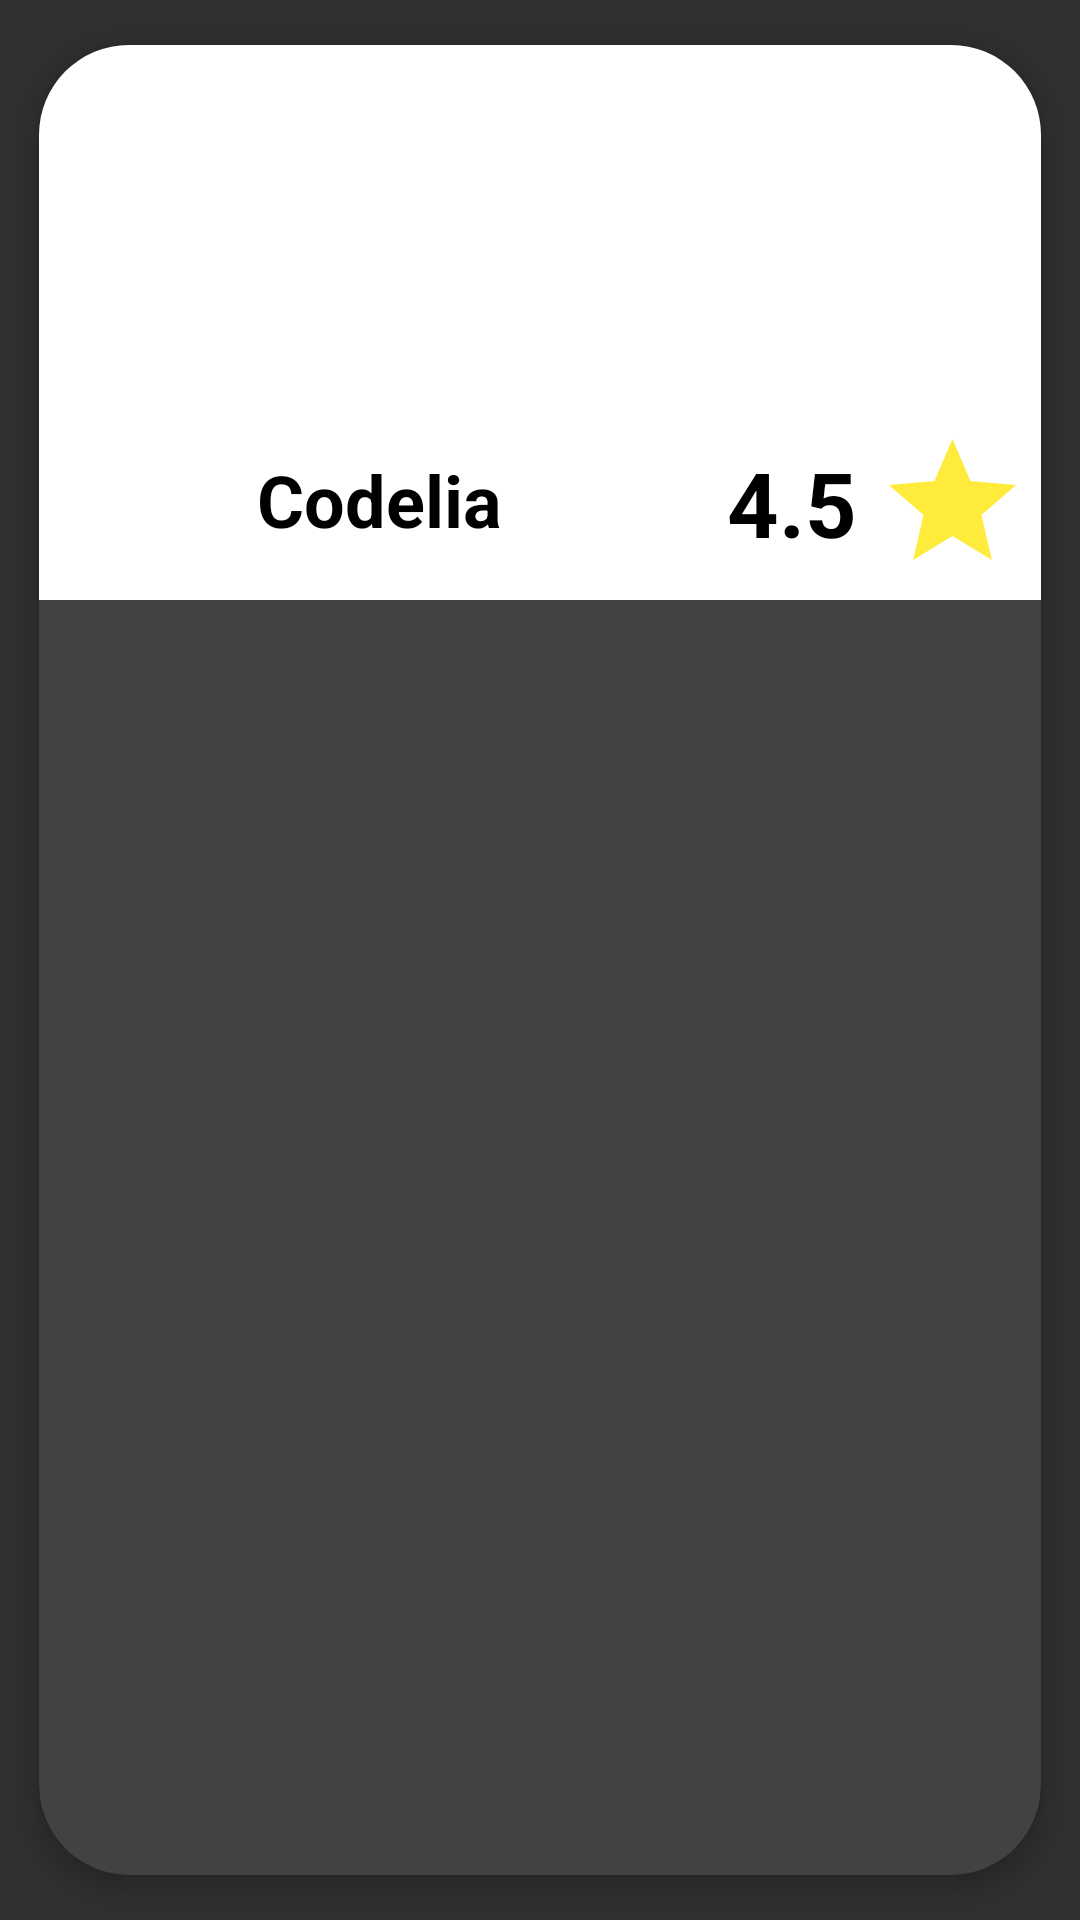

Named icons in this screenshot (1080×1920) and their centers, [x,y]:
star: [952,499]
